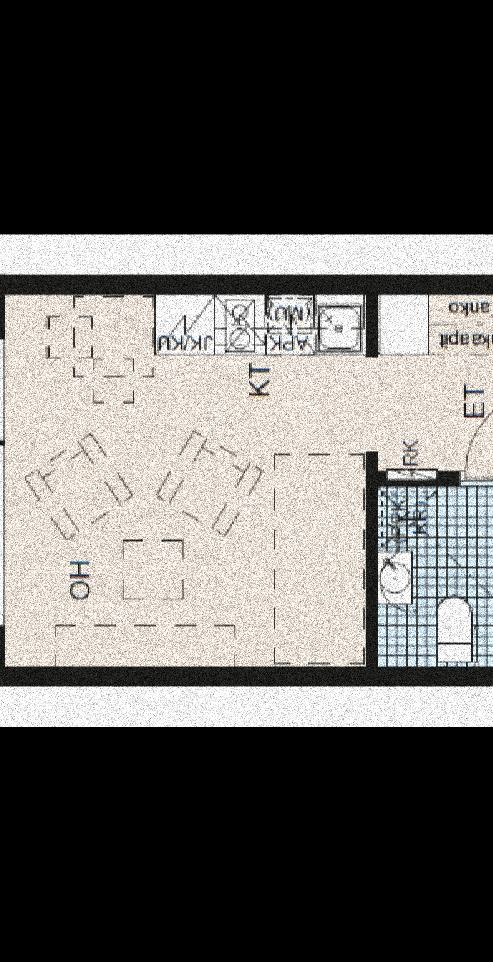door: (464, 391, 493, 486)
zone: (4, 300, 362, 670), (370, 473, 493, 660), (372, 287, 493, 472)
